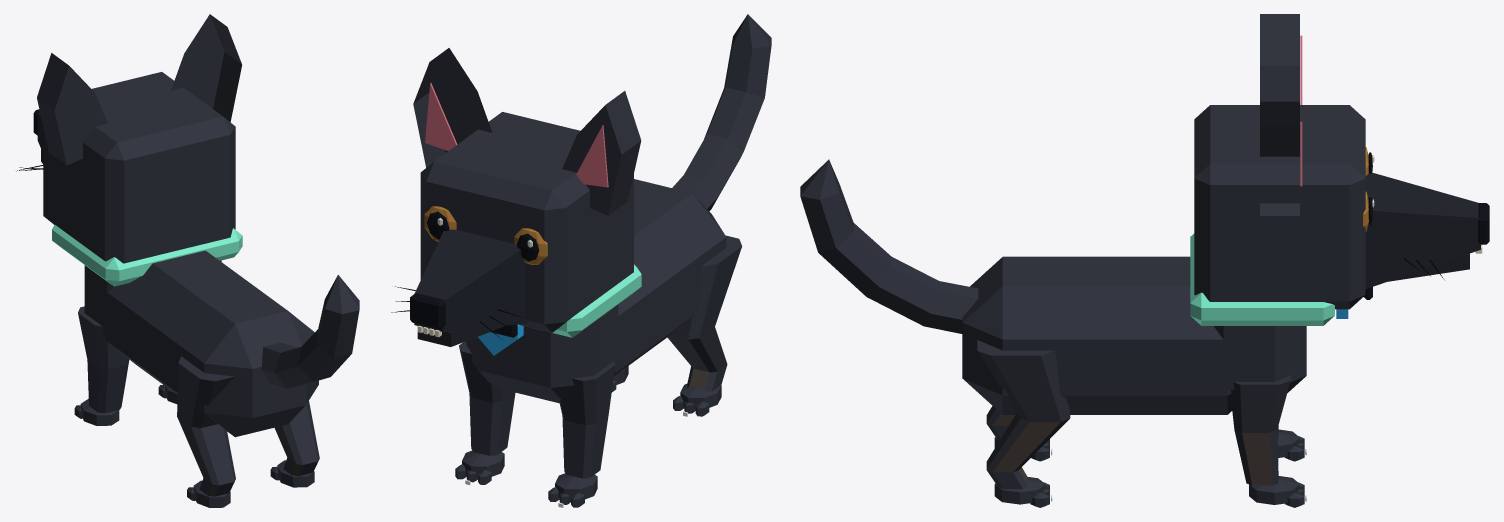
The model's file is mappo.glb.
The picture shows the model from 3 angles, left to right: view 1: azimuth 30°, elevation 25°; view 2: azimuth 150°, elevation 25°; view 3: azimuth 270°, elevation 25°; orthographic projection. The views are drawn at different scales.
Parts seen in each view (by area): view 1: Mappo_Katamari; view 2: Mappo_Katamari, Mappo_LowerJaw; view 3: Mappo_Katamari.
Boxes of the visible parts, x1,y1,x2,y2 form: Mappo_Katamari: (16, 14, 359, 507); Mappo_Katamari: (391, 14, 771, 507); Mappo_LowerJaw: (417, 325, 504, 346); Mappo_Katamari: (800, 14, 1489, 507).
Bounding box in the file's own units: 0.773 × 1.46 × 2.17.
